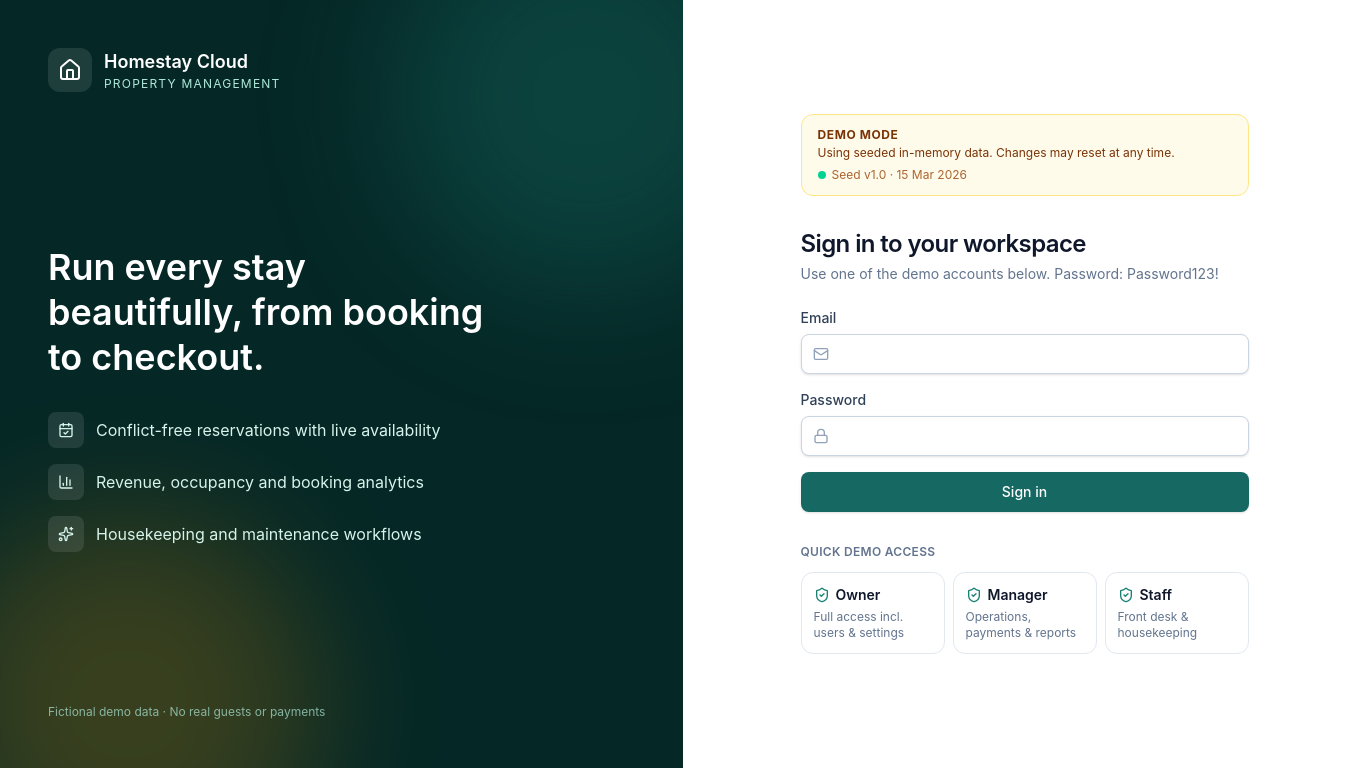
it: LoginPage › shows server errors
The width and height of the screenshot is (1366, 768).
Type "owner@homestay.demo" into the field labelled "Email" at (1024, 354), box [800,334,1248,374]
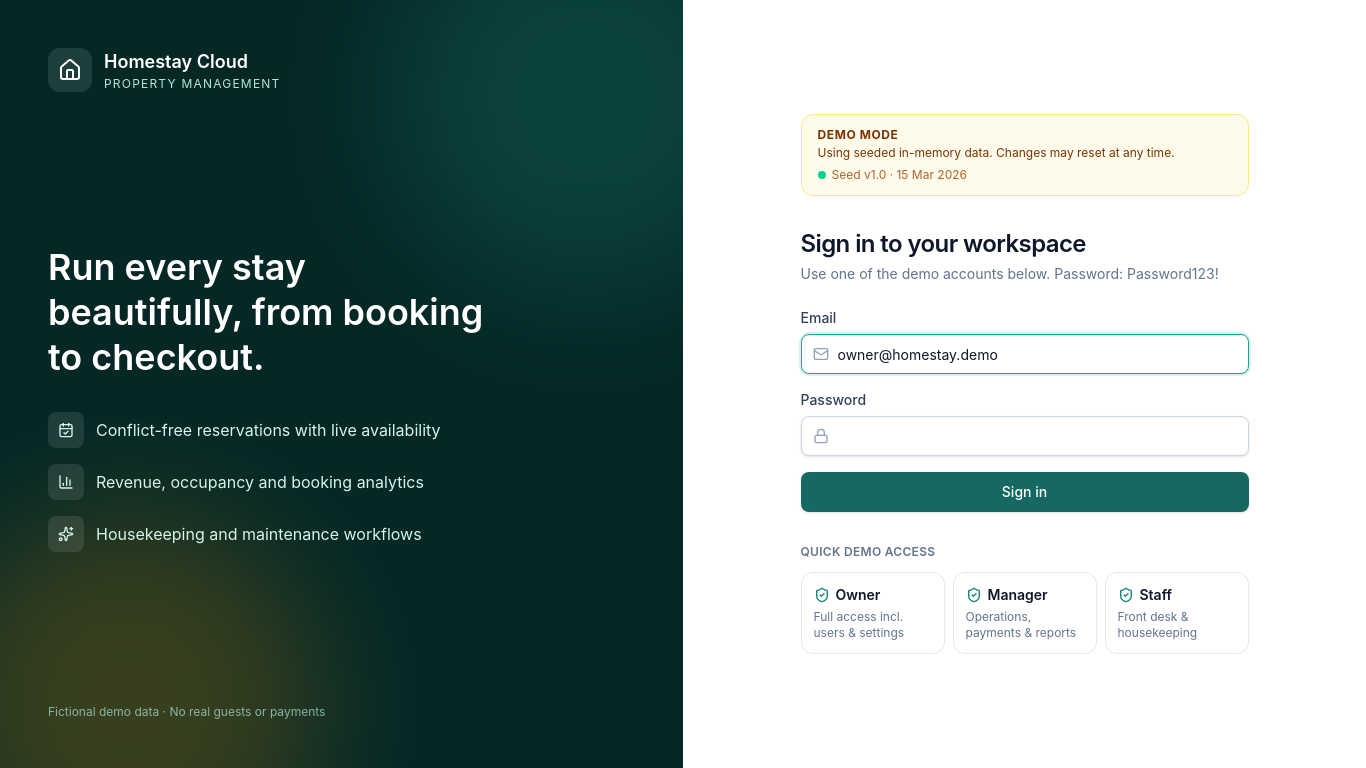
Type "nope" into the password field labelled "Password" at (1024, 436), box [800,416,1248,456]
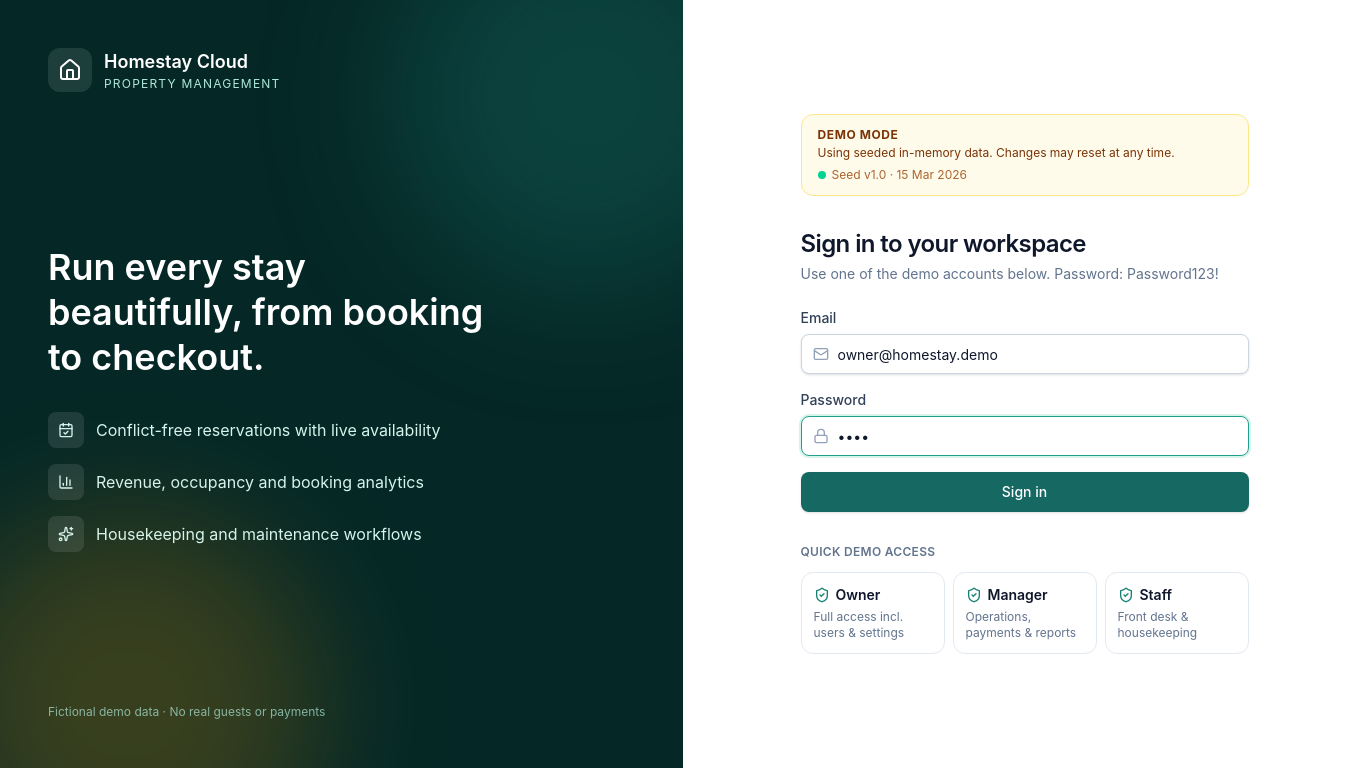
Click the button "Sign in" at (1024, 492), box [800,472,1248,512]
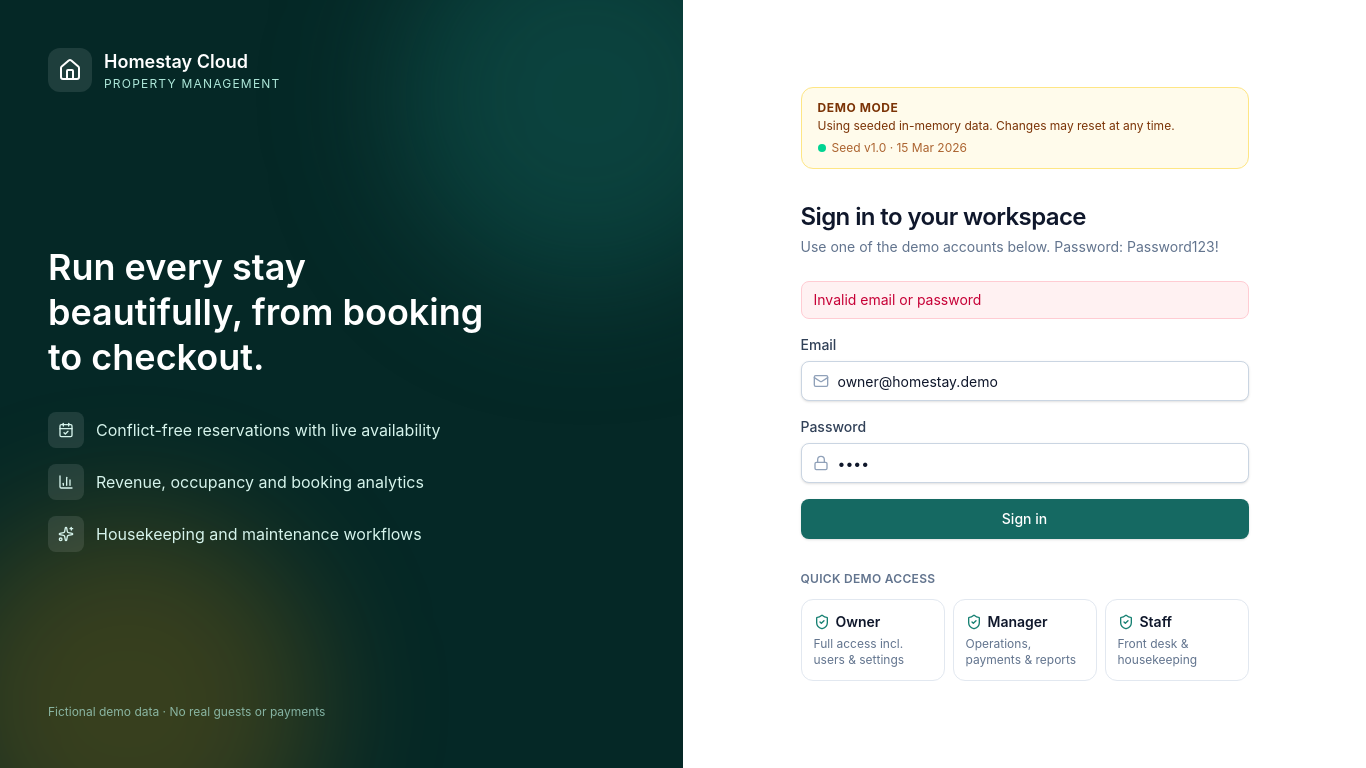
Expected: the text "Invalid email or password" is shown, [800,281,1248,319]
